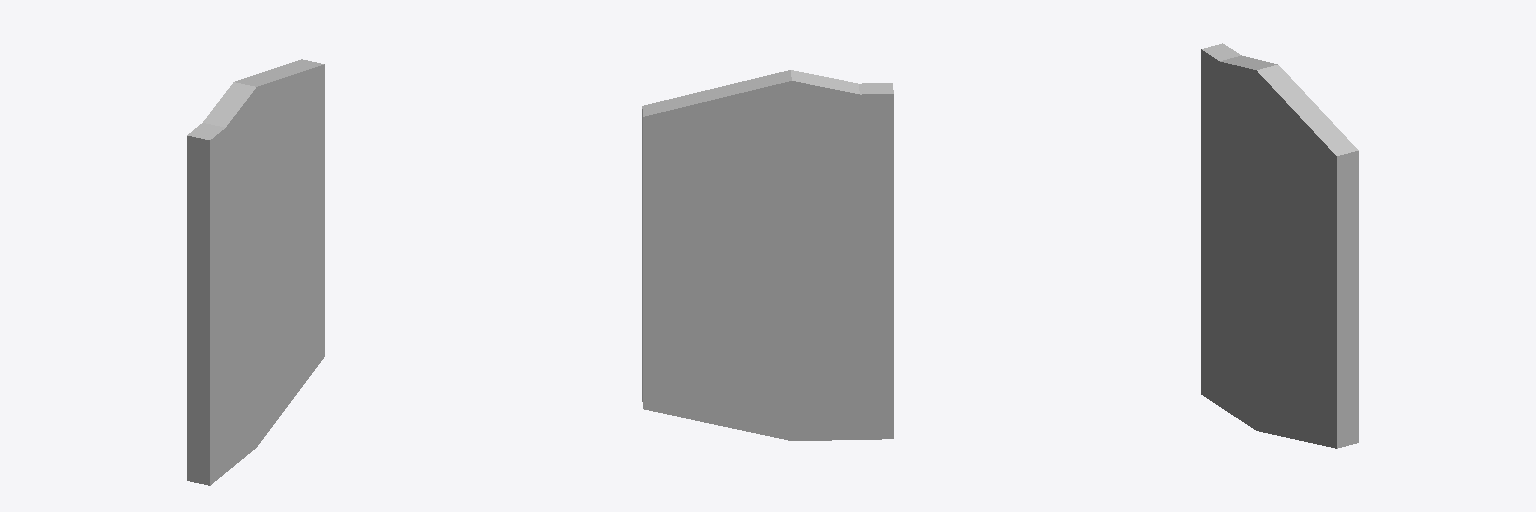
Rendered from door.obj.
The picture shows the model from 3 angles: view 1: azimuth 30°, elevation 25°; view 2: azimuth 150°, elevation 25°; view 3: azimuth 270°, elevation 25°; orthographic projection.
Visible parts, largest first — view 1: Saloon.001_saloon.002; view 2: Saloon.001_saloon.002; view 3: Saloon.001_saloon.002.
Boxes of the visible parts, <box> form: Saloon.001_saloon.002: <box>187,59,324,485</box>; Saloon.001_saloon.002: <box>642,70,893,440</box>; Saloon.001_saloon.002: <box>1201,43,1358,448</box>.
Size of the model in its own units: 0.3781 by 0.6683 by 0.2645.